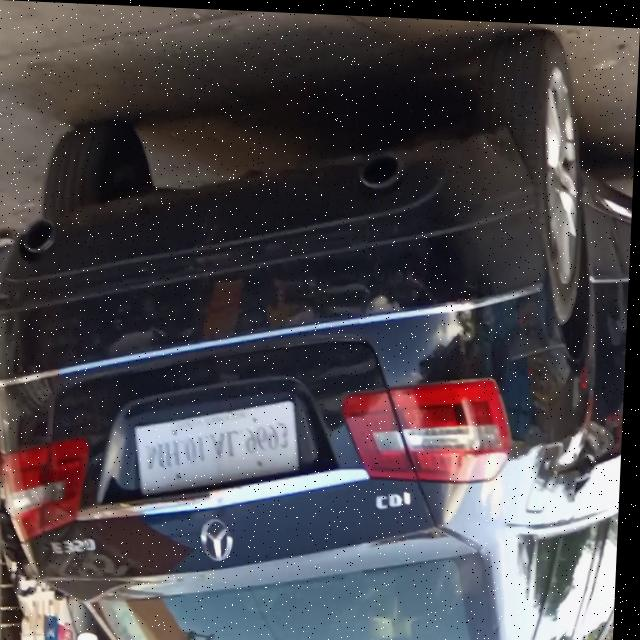plate: (135, 383, 308, 500)
